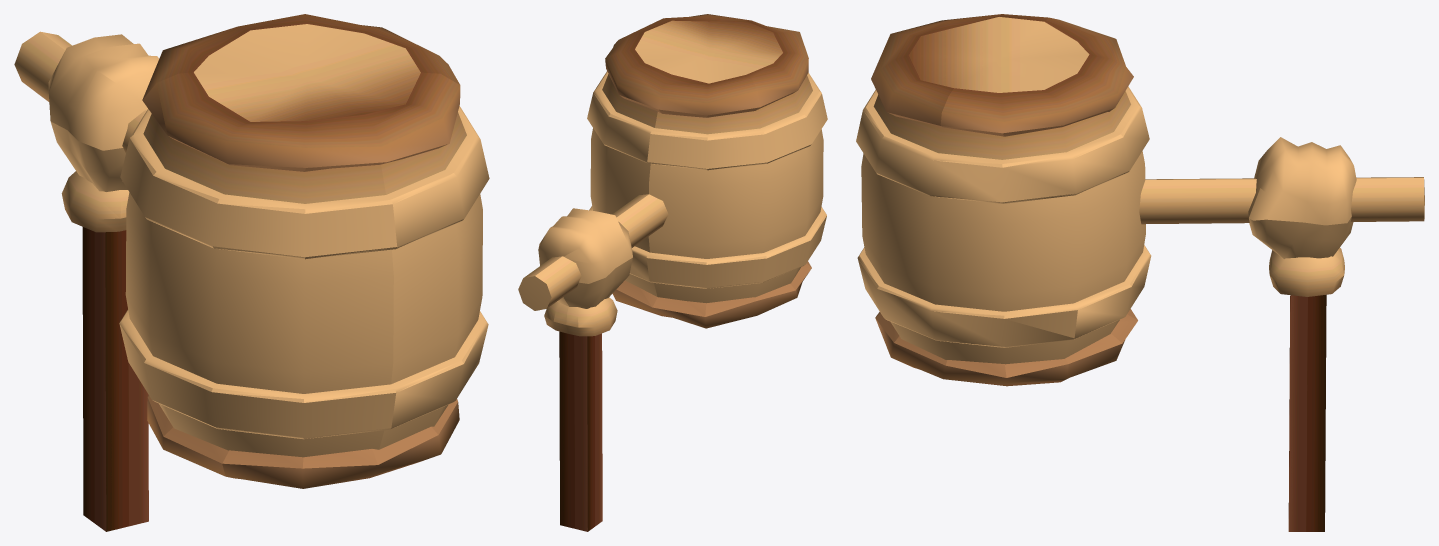
Rendered from bomber_hand.FBX.
3 views of the same model, side by side, from view 1: azimuth 30°, elevation 25°; view 2: azimuth 150°, elevation 25°; view 3: azimuth 270°, elevation 25° (orthographic). The views are drawn at different scales.
Parts seen in each view (by area): view 1: Mesh_0009; view 2: Mesh_0009; view 3: Mesh_0009.
Boxes of the visible parts, bbox=[...] form: Mesh_0009: bbox=[14, 14, 489, 531]; Mesh_0009: bbox=[518, 14, 827, 531]; Mesh_0009: bbox=[856, 14, 1424, 531].
Bounding box in the file's own units: 286 × 503 × 554.
